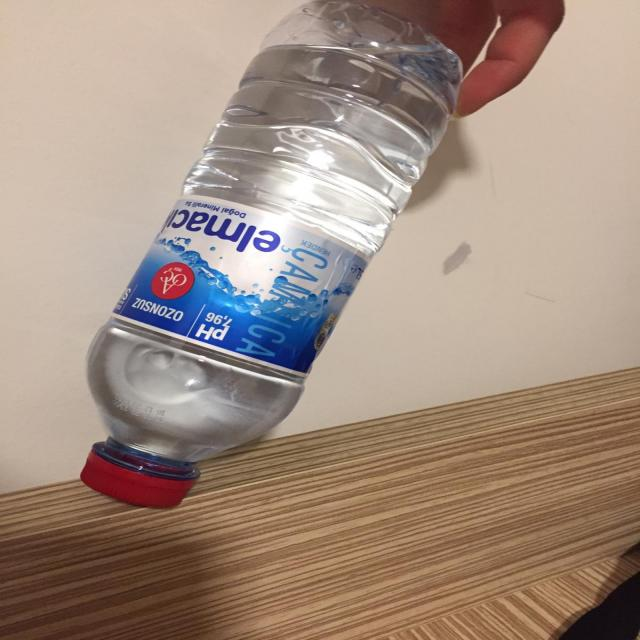bottle: (65, 11, 427, 523)
